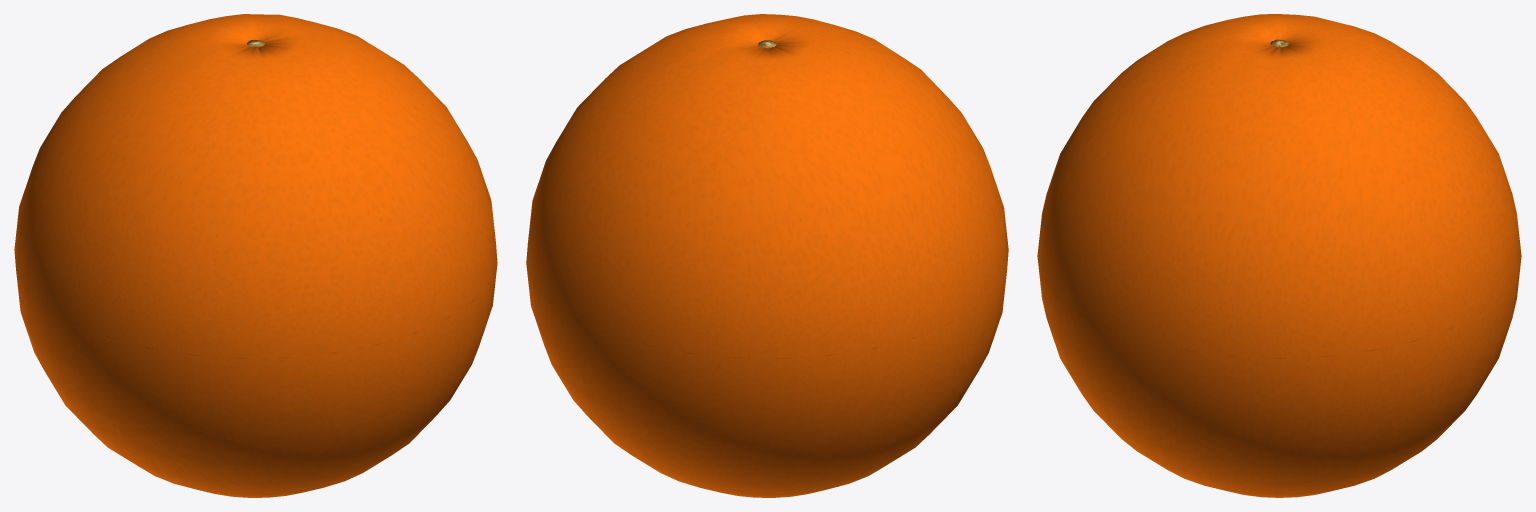
Rendered from orange_for_cycles.obj.
3 renders of one model, left to right at view 1: azimuth 30°, elevation 25°; view 2: azimuth 150°, elevation 25°; view 3: azimuth 270°, elevation 25°, orthographic.
Parts seen in each view (by area): view 1: Orange; view 2: Orange; view 3: Orange.
Boxes of the visible parts, x1,y1,x2,y2 form: Orange: (14, 14, 497, 497); Orange: (526, 14, 1008, 497); Orange: (1037, 14, 1521, 497).
Bounding box in the file's own units: 2 × 1.96 × 2.
